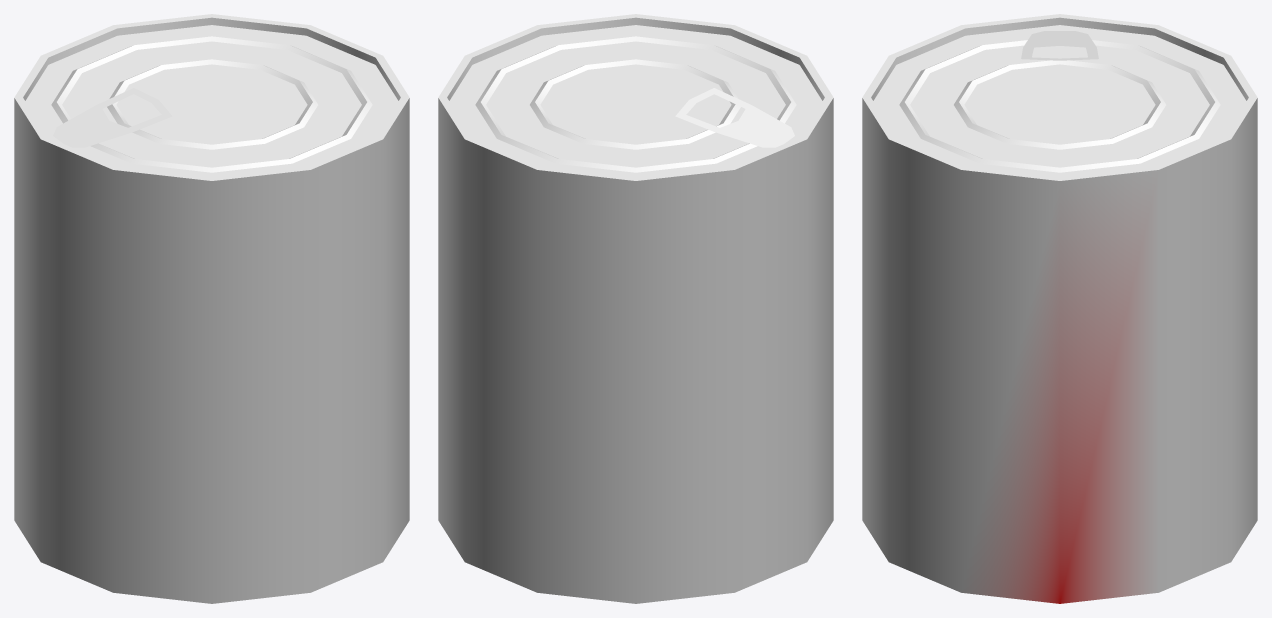
The model's file is SM_Can02.FBX.
3 renders of one model, left to right at view 1: azimuth 30°, elevation 25°; view 2: azimuth 150°, elevation 25°; view 3: azimuth 270°, elevation 25°, orthographic.
Parts seen in each view (by area): view 1: SM_Can02; view 2: SM_Can02; view 3: SM_Can02.
Part boxes in pixels (x1,y1,x2,y2): SM_Can02: (14,14,409,603); SM_Can02: (438,14,833,603); SM_Can02: (862,14,1257,603).
Size of what is drawn, in the model's own units: 10 by 10 by 12.1.
